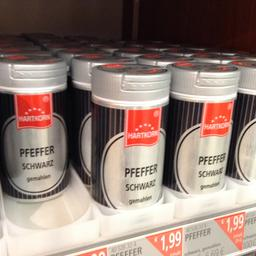spices: (90, 62, 172, 209), (163, 59, 240, 192), (0, 55, 66, 202)
